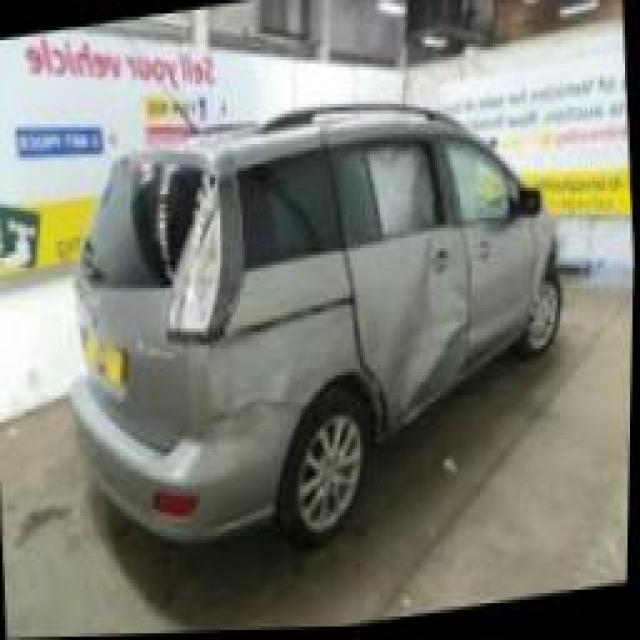Door: (320, 130, 469, 432)
